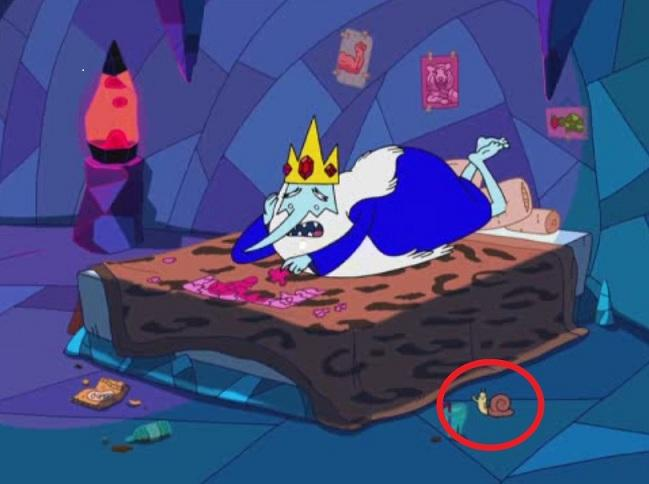snail: (469, 386, 516, 418)
